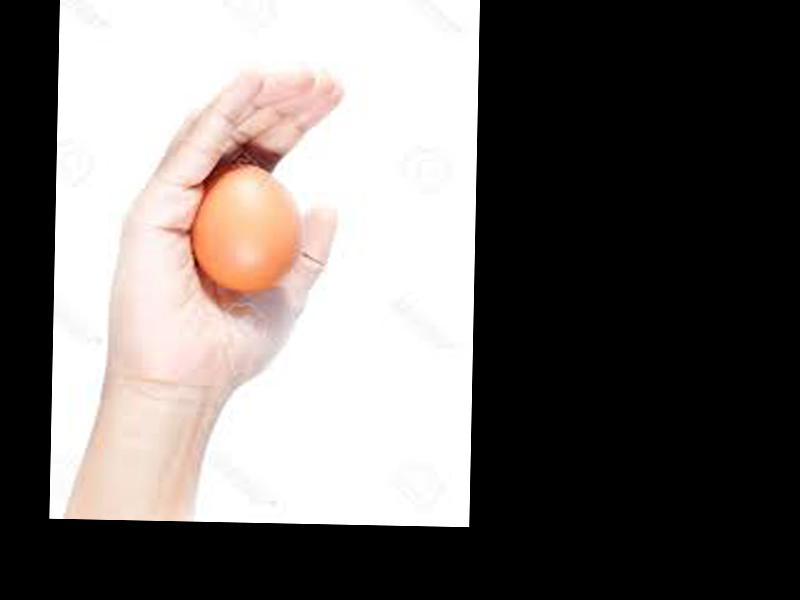Eggs: (193, 165, 301, 291)
